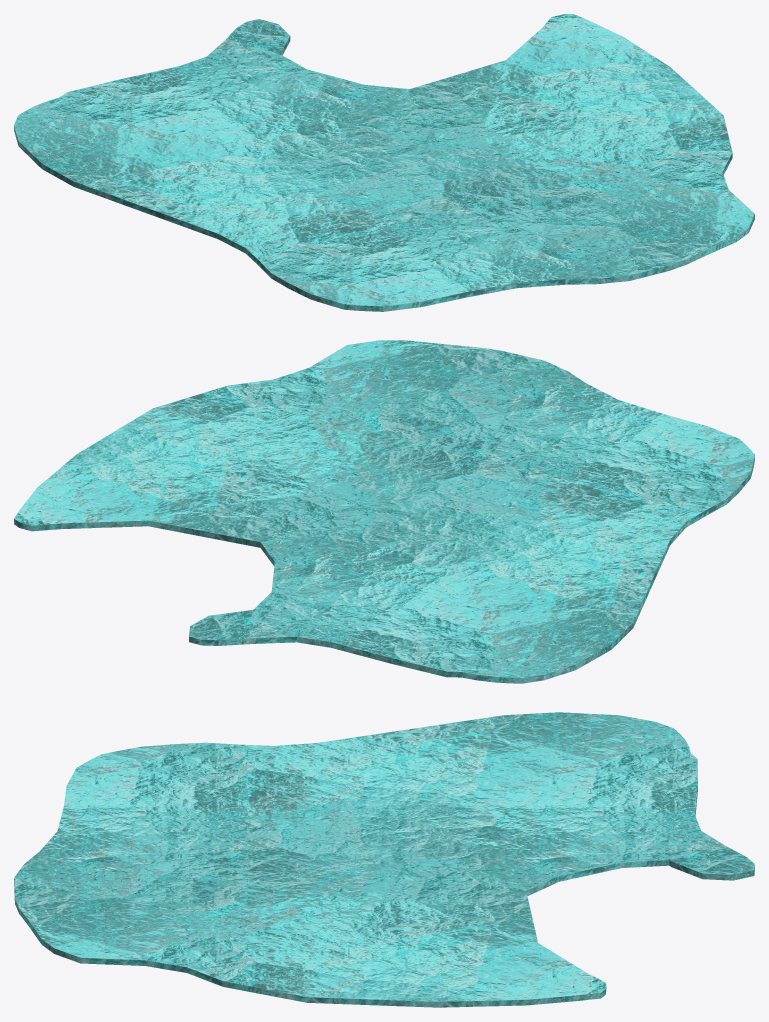
Rendered from Gran hielo.dae.
3 views of the same model, one above another, from view 1: azimuth 30°, elevation 25°; view 2: azimuth 150°, elevation 25°; view 3: azimuth 270°, elevation 25° (orthographic). The views are drawn at different scales.
Parts seen in each view (by area): view 1: SketchUp; view 2: SketchUp; view 3: SketchUp.
Boxes of the visible parts, <box> form: SketchUp: <box>14,14,754,311</box>; SketchUp: <box>14,340,754,683</box>; SketchUp: <box>14,712,754,1007</box>.
Bounding box in the file's own units: 1593 × 1722 × 14.57.
